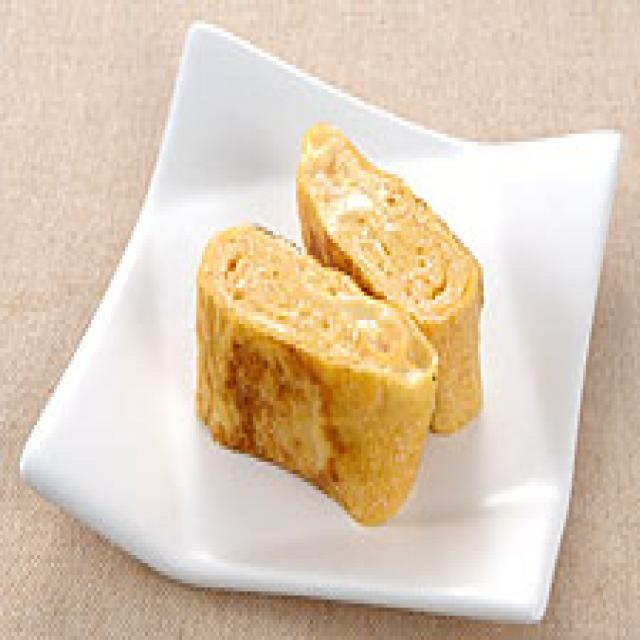鸡蛋料理: (182, 109, 489, 531)
